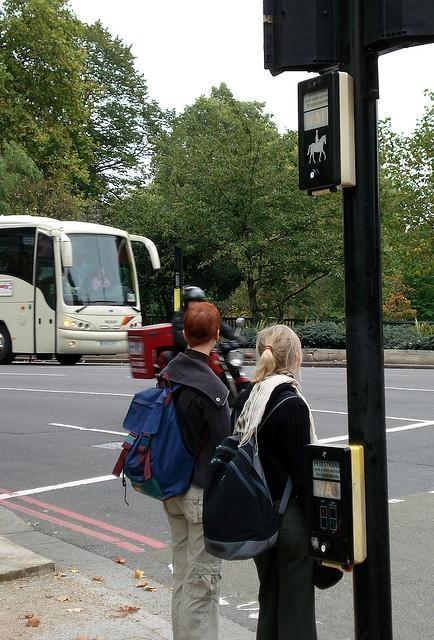bus: (0, 212, 165, 356)
motorcycle: (207, 341, 251, 395)
